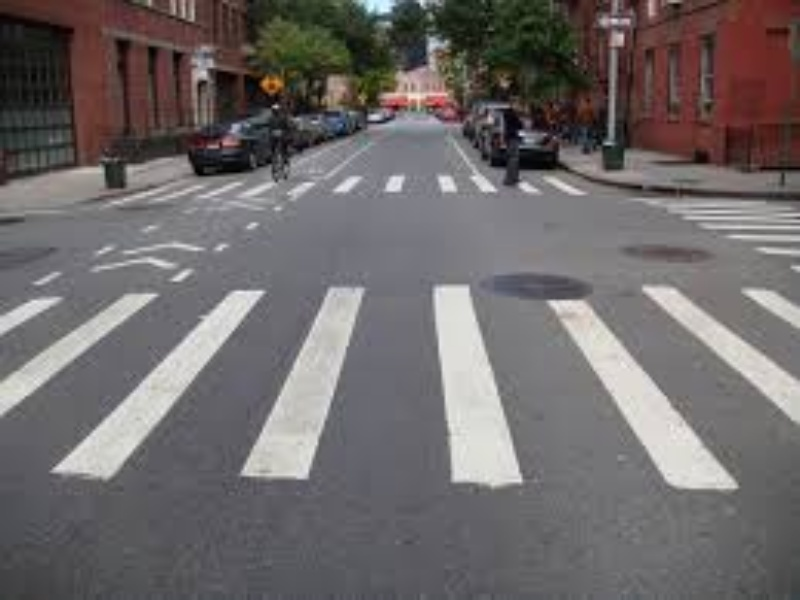zebra cross: (8, 283, 800, 488), (650, 197, 800, 272), (117, 173, 603, 196)
